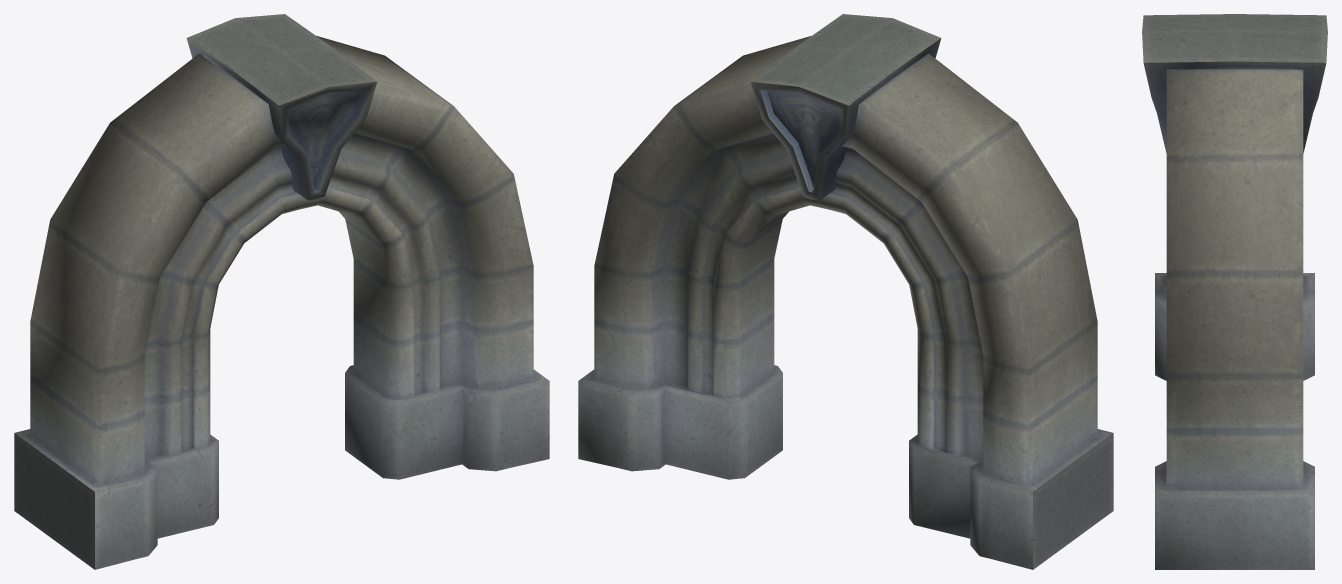
Rendered from AD_Arch_B_01.fbx.
The picture shows the model from 3 angles, left to right: view 1: azimuth 30°, elevation 25°; view 2: azimuth 150°, elevation 25°; view 3: azimuth 270°, elevation 25°; orthographic projection.
Parts seen in each view (by area): view 1: AD_Arch_B_01; view 2: AD_Arch_B_01; view 3: AD_Arch_B_01.
Part boxes in pixels (x1,y1,x2,y2): AD_Arch_B_01: (14, 14, 549, 569); AD_Arch_B_01: (578, 14, 1113, 569); AD_Arch_B_01: (1142, 14, 1327, 569).
Size of the model in its own units: 1149 by 1047 by 411.
1 material, 1 textured.
